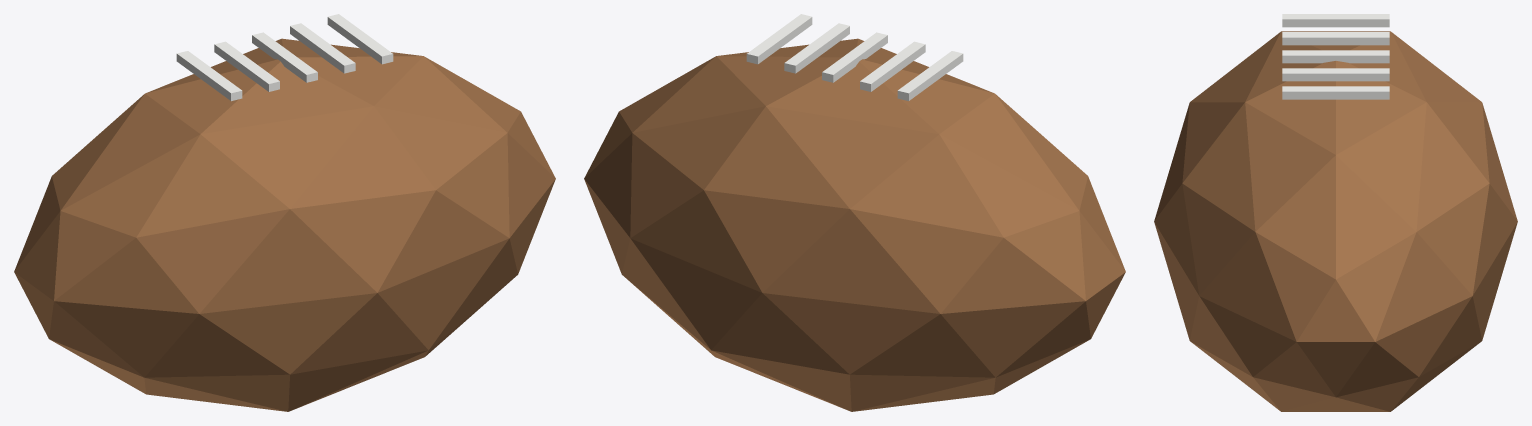
The model's file is football.glb.
The picture shows the model from 3 angles, left to right: view 1: azimuth 30°, elevation 25°; view 2: azimuth 150°, elevation 25°; view 3: azimuth 270°, elevation 25°; orthographic projection.
Parts seen in each view (by area): view 1: football; view 2: football; view 3: football.
Boxes of the visible parts, bbox=[...] form: football: bbox=[14, 14, 555, 411]; football: bbox=[584, 14, 1125, 411]; football: bbox=[1154, 14, 1517, 411].
Bounding box in the file's own units: 0.2663 × 0.172 × 0.17.
